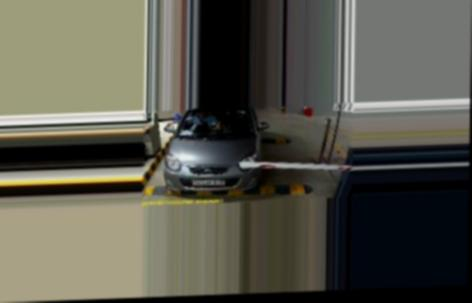License_Plate: (191, 176, 225, 189)
